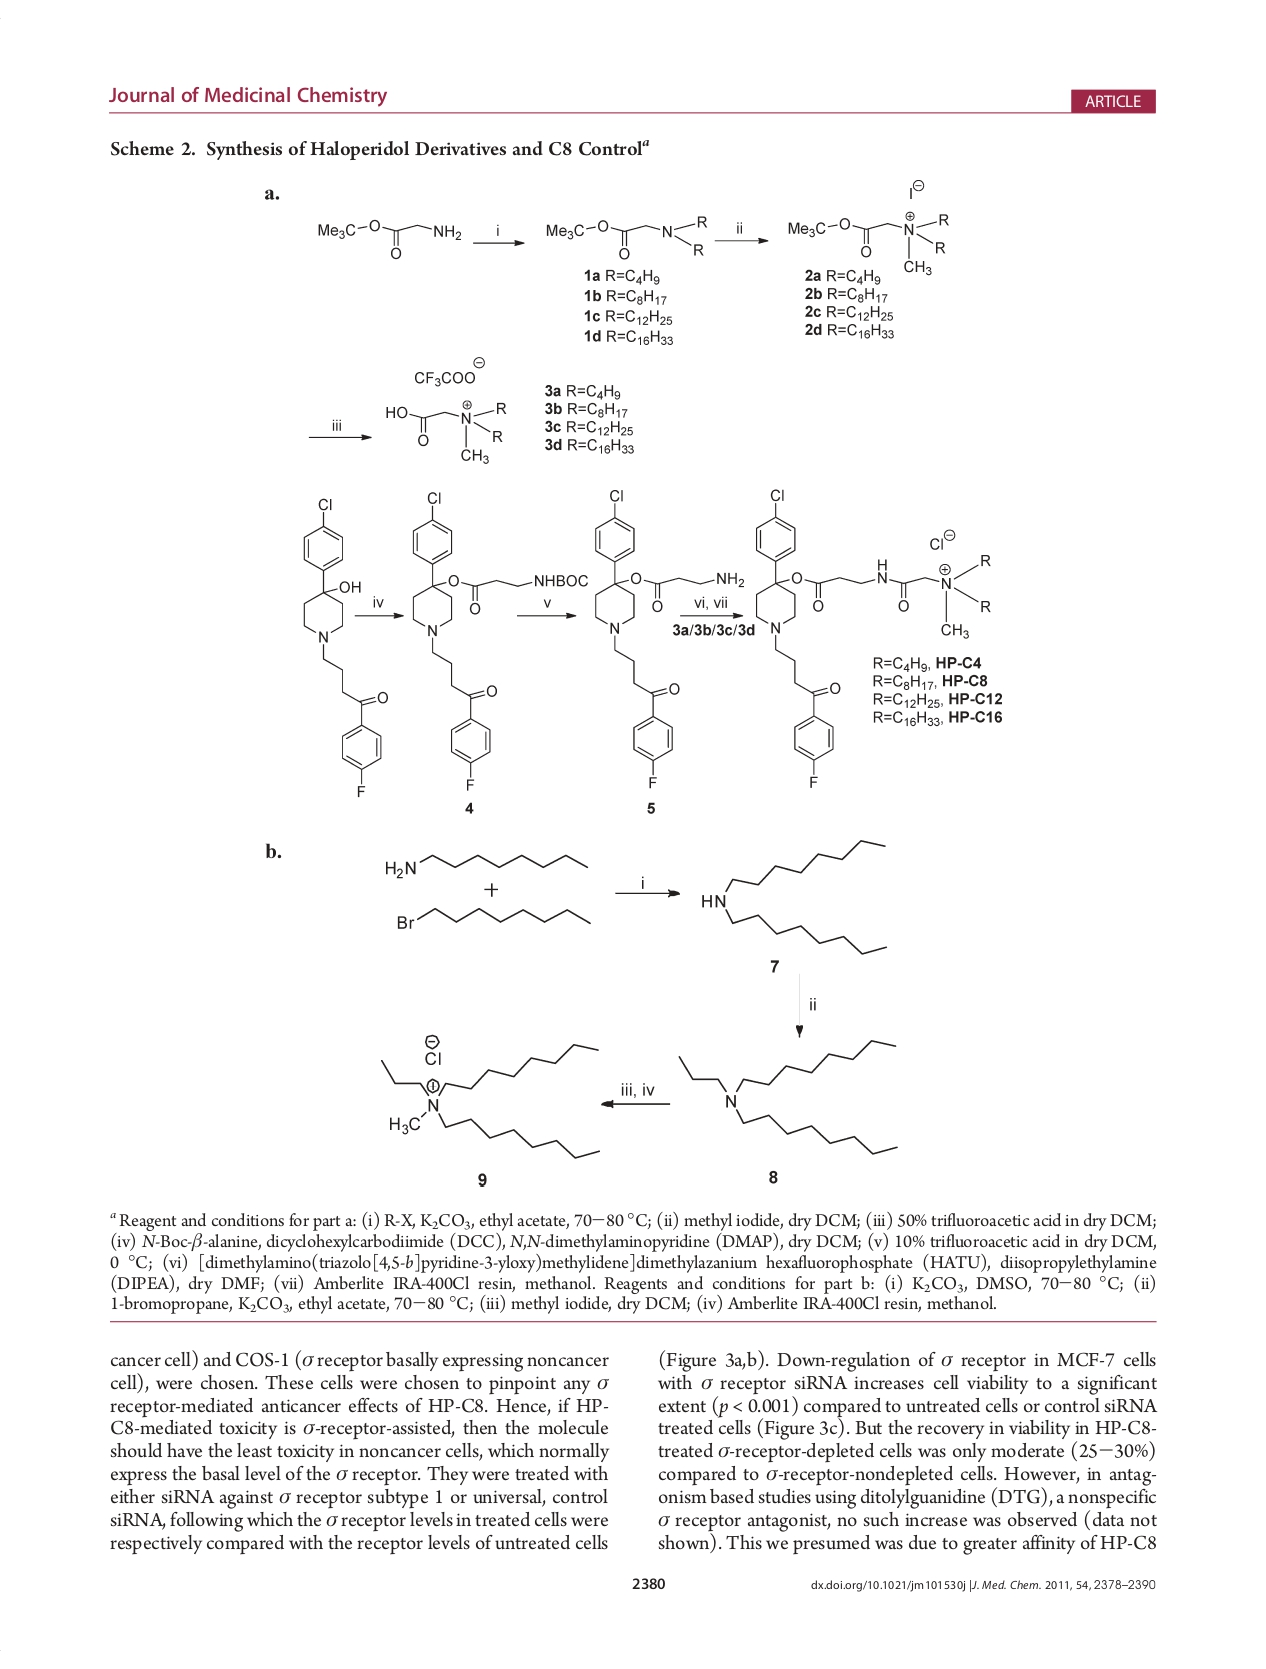exist_molecular: (753, 483, 993, 790), (408, 485, 590, 790), (590, 481, 747, 790), (372, 1028, 602, 1162), (297, 491, 392, 801), (669, 1037, 906, 1158), (698, 836, 896, 958), (787, 177, 951, 275), (380, 392, 509, 472), (539, 213, 711, 265), (315, 207, 467, 265), (379, 844, 590, 880), (390, 903, 598, 932)
